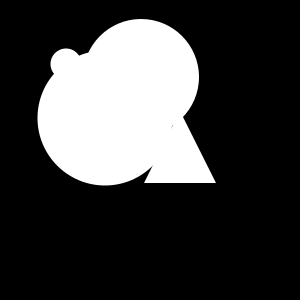rectangle: (37, 50, 172, 186), (83, 19, 199, 135), (50, 49, 82, 80)
triangle: (144, 111, 216, 183)
